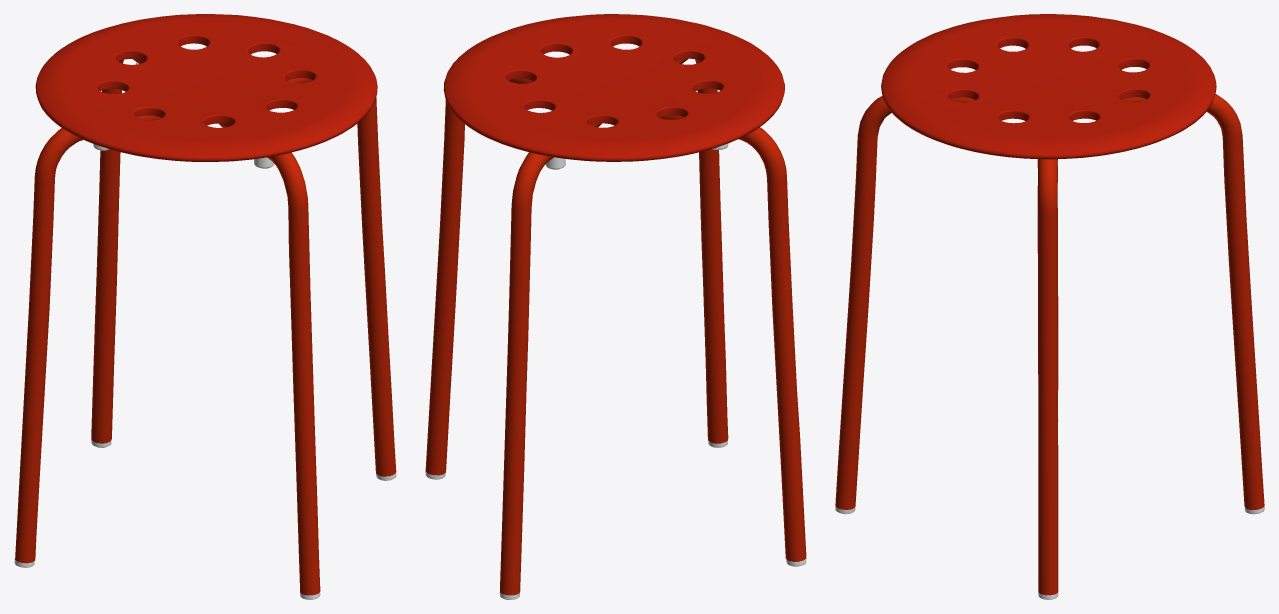
Rendered from MARIUS_10135659.glb.
The picture shows the model from 3 angles, left to right: view 1: azimuth 30°, elevation 25°; view 2: azimuth 150°, elevation 25°; view 3: azimuth 270°, elevation 25°; orthographic projection.
Parts seen in each view (by area): view 1: model; view 2: model; view 3: model.
Boxes of the visible parts, bbox=[...] form: model: bbox=[14, 14, 396, 599]; model: bbox=[425, 14, 806, 599]; model: bbox=[835, 14, 1264, 599].
Bounding box in the file's own units: 0.4056 × 0.4505 × 0.406.
Materials: 1 (1 with a texture image).
